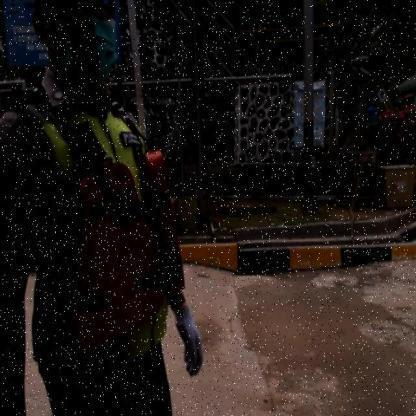gloves: (170, 296, 208, 378)
goggles: (52, 0, 116, 21)
mask: (54, 19, 122, 85)
vest: (68, 146, 186, 352)
